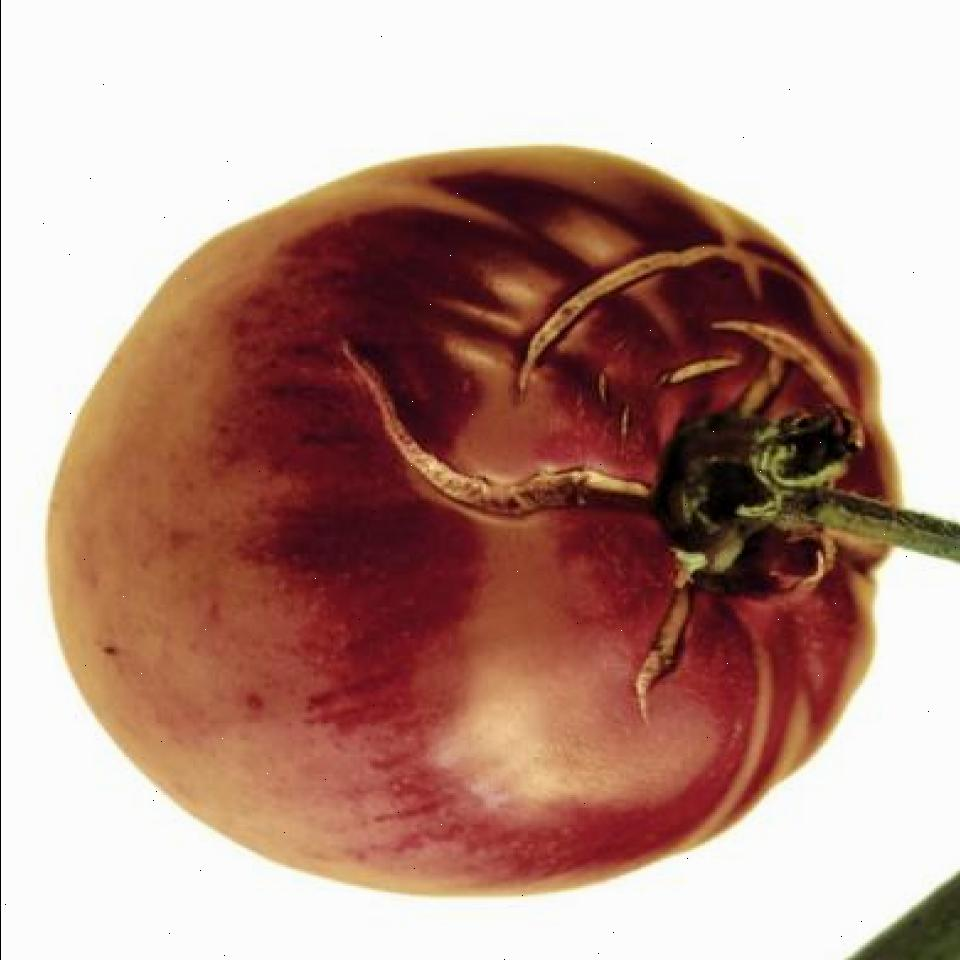Cracking: (502, 241, 882, 396), (626, 558, 702, 758)
